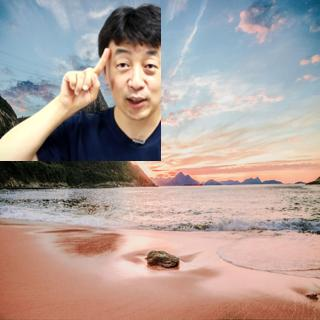IRRITATED: (57, 46, 111, 113)
